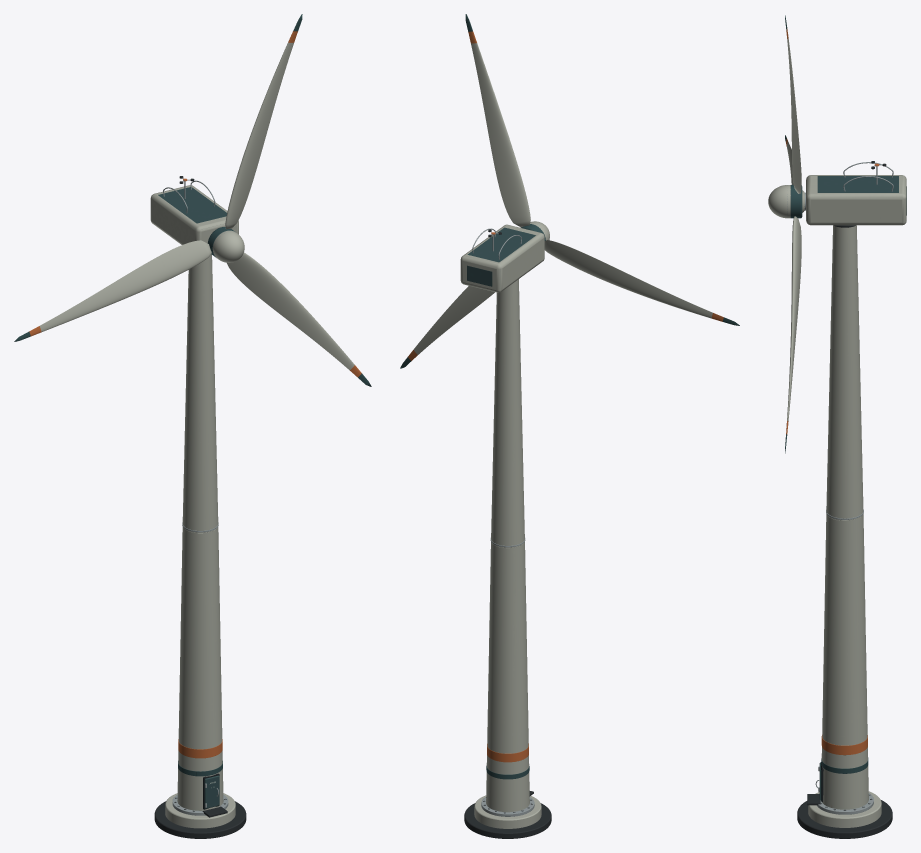
Rendered from WindTurbine.glb.
3 views of the same model, side by side, from view 1: azimuth 30°, elevation 25°; view 2: azimuth 150°, elevation 25°; view 3: azimuth 270°, elevation 25° (orthographic). The views are drawn at different scales.
Parts seen in each view (by area): view 1: WindTurbine_Geometry, RotorGeometry; view 2: WindTurbine_Geometry, RotorGeometry; view 3: WindTurbine_Geometry, RotorGeometry.
Part boxes in pixels (left/top/right/bottom): WindTurbine_Geometry: left=150, top=176, right=246, bottom=838; RotorGeometry: left=14, top=14, right=371, bottom=386; WindTurbine_Geometry: left=460, top=224, right=551, bottom=838; RotorGeometry: left=400, top=14, right=739, bottom=368; WindTurbine_Geometry: left=797, top=161, right=906, bottom=838; RotorGeometry: left=768, top=15, right=805, bottom=453.
Bounding box in the file's own units: 16.38 × 35.45 × 5.29.
2 materials, 2 textured.
